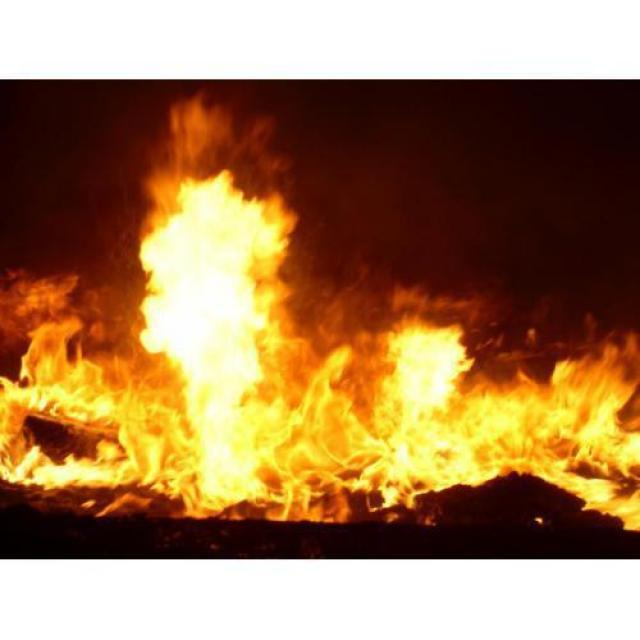fire: (2, 107, 637, 537)
